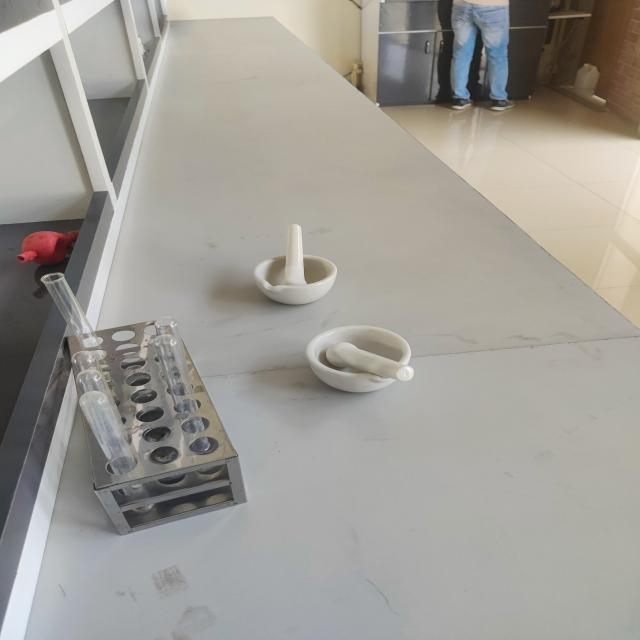Porcelain_Mortar Pestle: (274, 317, 448, 409), (240, 213, 356, 311)
